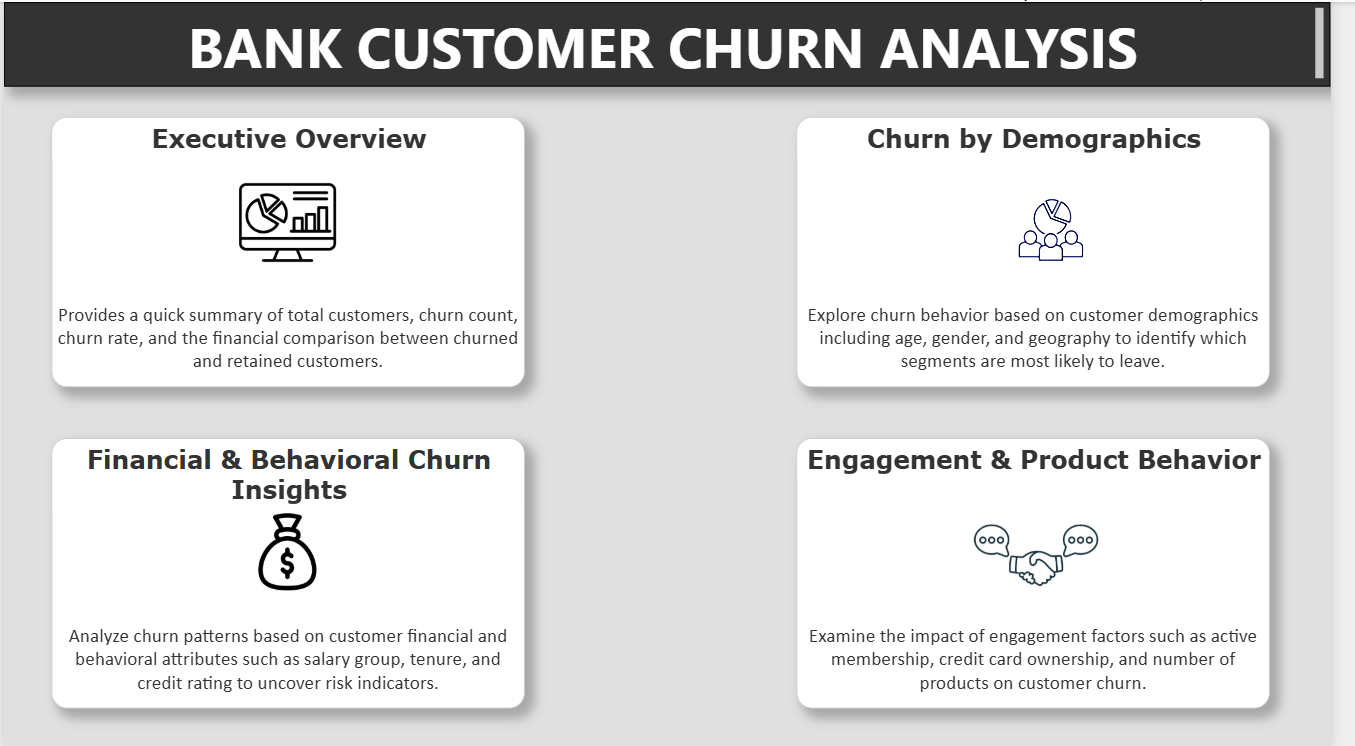

The page's visual inventory and layout, read from the dashboard file:
{"tool":"powerbi","page":{"name":"Homepage","canvas":[1280,720],"ordinal":0},"visuals":[{"type":"shape","title":"Executive Overview","box":[45.3,111.1,456.9,260.7],"z":0},{"type":"image","box":[160.5,153.7,226.4,119.4],"z":1000},{"type":"shape","title":"Churn by Demographics","box":[764.3,111.1,456.9,260.7],"z":2000},{"type":"image","box":[894.7,153.7,230.5,135.8],"z":3000},{"type":"shape","title":"Financial & Behavioral Churn Insights","box":[45.3,421.3,456.9,260.7],"z":4000},{"type":"image","box":[211.3,494,124.9,74.1],"z":5000},{"type":"shape","title":"Engagement & Product Behavior","box":[764.3,421.3,456.9,260.7],"z":6000},{"type":"image","box":[853.5,462.4,286.8,120.8],"z":7000},{"type":"actionButton","box":[45.3,111.1,456.9,260.7],"z":8000},{"type":"actionButton","box":[764.3,111.1,456.9,260.7],"z":9000},{"type":"actionButton","box":[45.3,421.3,456.9,260.7],"z":10000},{"type":"actionButton","box":[764.3,421.3,456.9,260.7],"z":11000},{"type":"textbox","box":[0,0,1280,81.2],"z":12000}]}

Visuals, with their boxes in screenshot pixels (x1, y1, x2, y2), scaled from the page's 1280x720 canvas onto the 1355x746 screenshot:
"Executive Overview" shape: select_region(48, 115, 532, 385)
image: select_region(170, 159, 410, 283)
"Churn by Demographics" shape: select_region(809, 115, 1293, 385)
image: select_region(947, 159, 1191, 300)
"Financial & Behavioral Churn Insights" shape: select_region(48, 437, 532, 707)
image: select_region(224, 512, 356, 589)
"Engagement & Product Behavior" shape: select_region(809, 437, 1293, 707)
image: select_region(904, 479, 1207, 604)
actionButton: select_region(48, 115, 532, 385)
actionButton: select_region(809, 115, 1293, 385)
actionButton: select_region(48, 437, 532, 707)
actionButton: select_region(809, 437, 1293, 707)
textbox: select_region(0, 0, 1354, 84)
